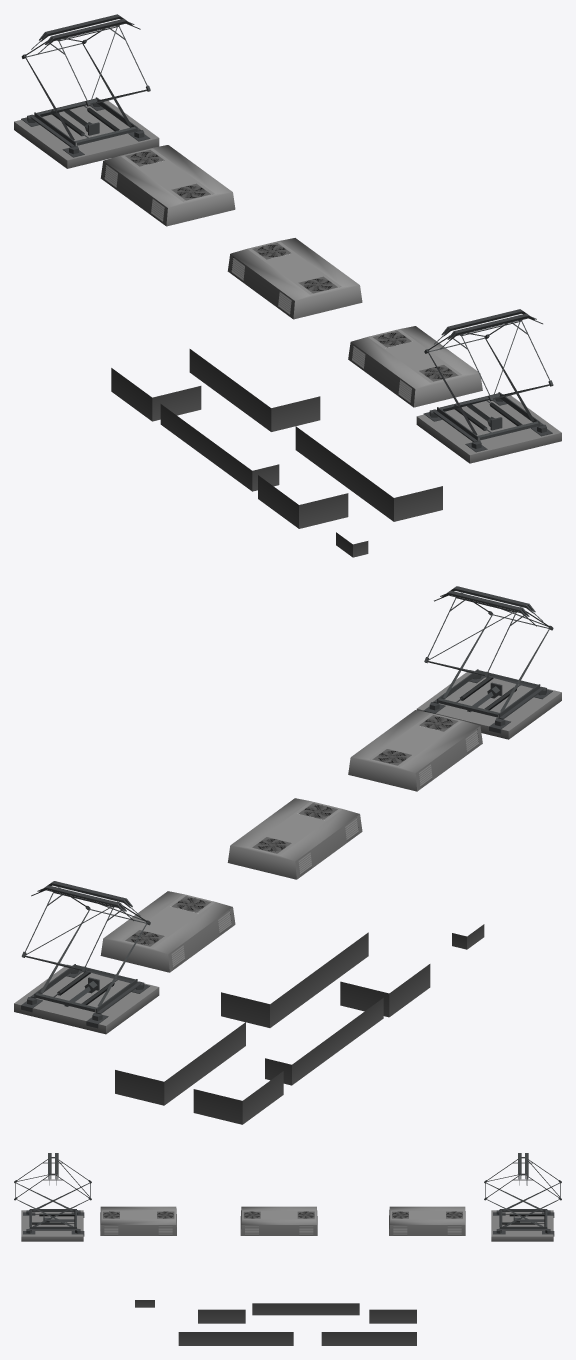
File: 7001_PANTA00.glb
3 views of the same model, one above another, from view 1: azimuth 30°, elevation 25°; view 2: azimuth 150°, elevation 25°; view 3: azimuth 270°, elevation 25° (orthographic). The views are drawn at different scales.
Parts seen in each view (by area): view 1: obj2; view 2: obj2; view 3: obj2.
Part boxes in pixels (bbox=[...]): obj2: bbox=[14, 14, 561, 557]; obj2: bbox=[14, 586, 561, 1124]; obj2: bbox=[14, 1153, 561, 1345].
Bounding box in the file's own units: 5.53 × 11.72 × 35.29.
Materials: 3 (3 with a texture image).
